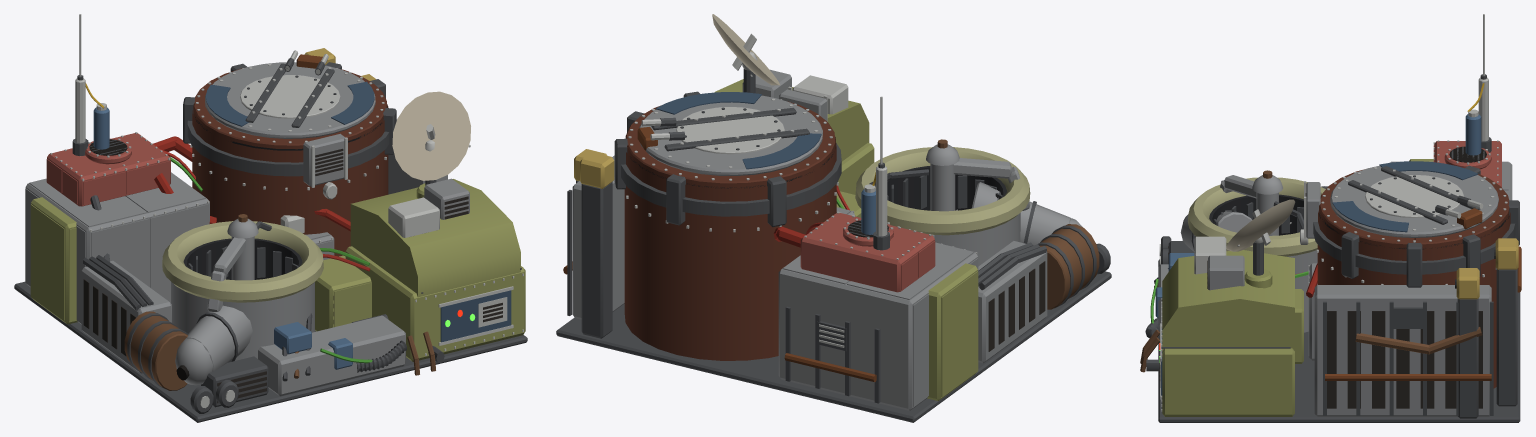
Rendered from cargo-landing-pad.glb.
The picture shows the model from 3 angles, left to right: view 1: azimuth 30°, elevation 25°; view 2: azimuth 150°, elevation 25°; view 3: azimuth 270°, elevation 25°; orthographic projection. The views are drawn at different scales.
Parts seen in each view (by area): view 1: body, anim_lid_pad; view 2: body, anim_lid_pad; view 3: body, anim_lid_pad.
Boxes of the visible parts, <box> form: body: <box>14,14,527,422</box>; anim_lid_pad: <box>205,50,375,138</box>; body: <box>556,14,1111,422</box>; anim_lid_pad: <box>637,92,822,175</box>; body: <box>1140,14,1521,422</box>; anim_lid_pad: <box>1330,161,1498,237</box>.
Bounding box in the file's own units: 7.05 × 5.26 × 6.67.
